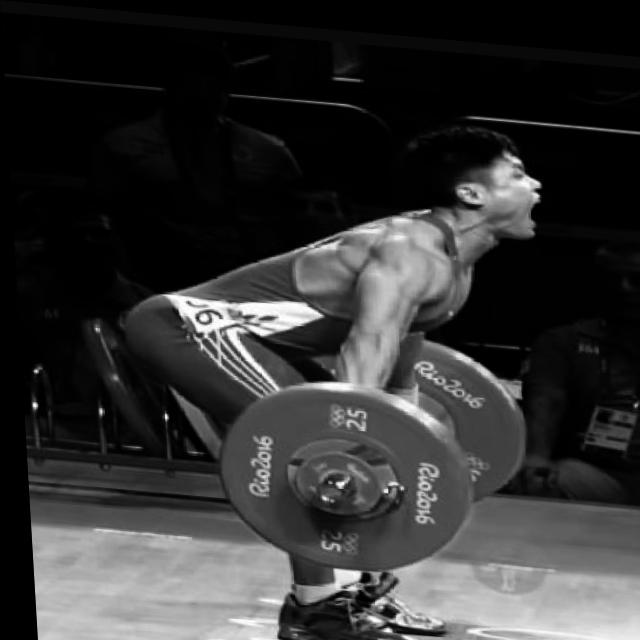barbell: (207, 360, 475, 576)
